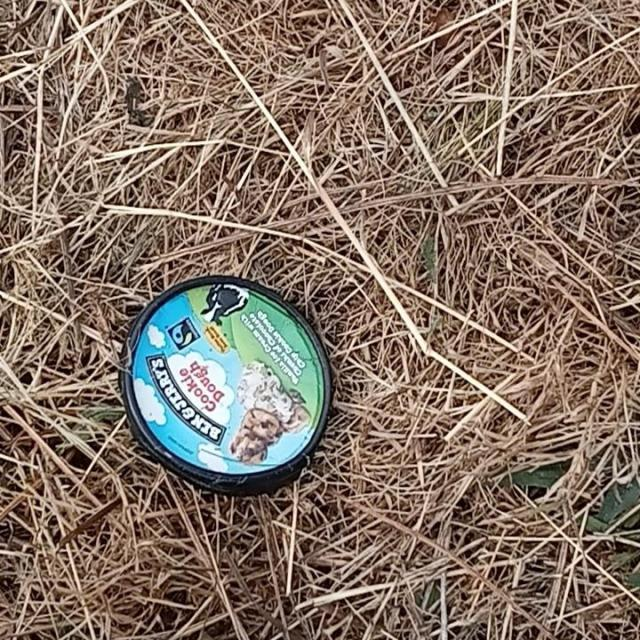Paper: (114, 272, 336, 500)
